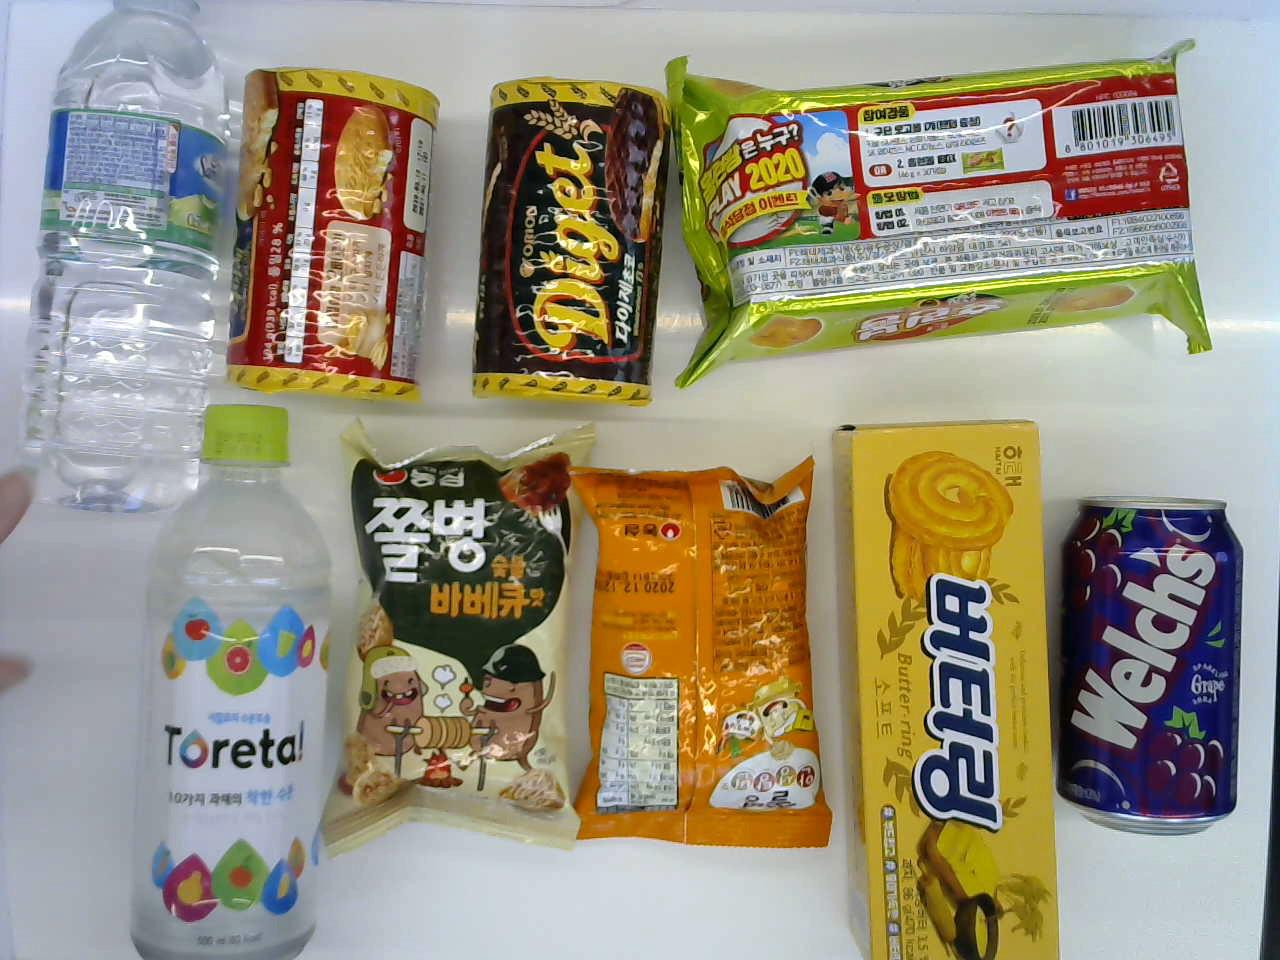buttering: (849, 413, 1047, 958)
diget_choco: (468, 70, 680, 406)
diget_ori: (235, 70, 446, 406)
homerunball: (682, 35, 1209, 377)
jjolbyung_noodle: (571, 451, 804, 866)
jjolbyung_ori: (349, 426, 582, 841)
samdasu: (30, 0, 222, 503)
toreta: (139, 397, 331, 960)
welchs: (1052, 495, 1258, 827)
